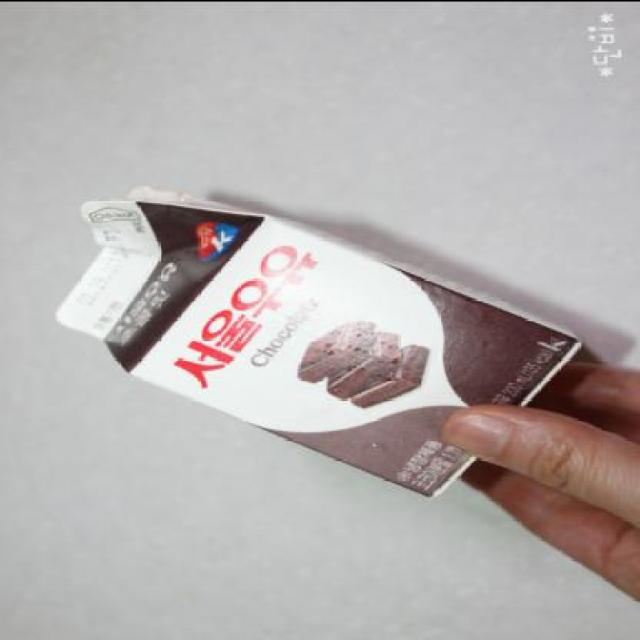non_white_jug: (32, 161, 590, 502)
